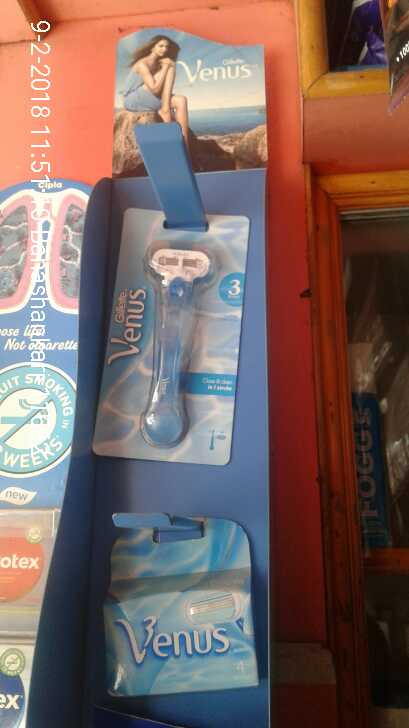venus: (95, 191, 249, 469), (93, 522, 263, 705)
